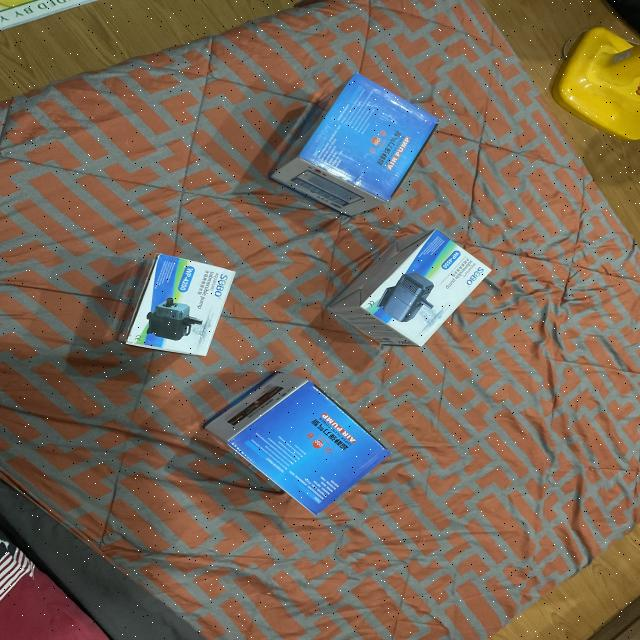SOBO_WP_4200: (310, 232, 498, 362), (109, 250, 231, 376)
YAMANO_LPP_20: (195, 372, 392, 528), (260, 76, 450, 230)
